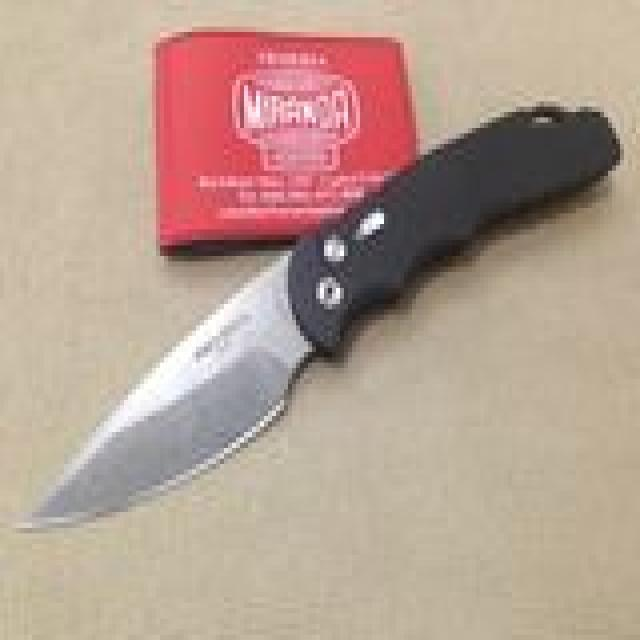Knife: (17, 85, 623, 573)
